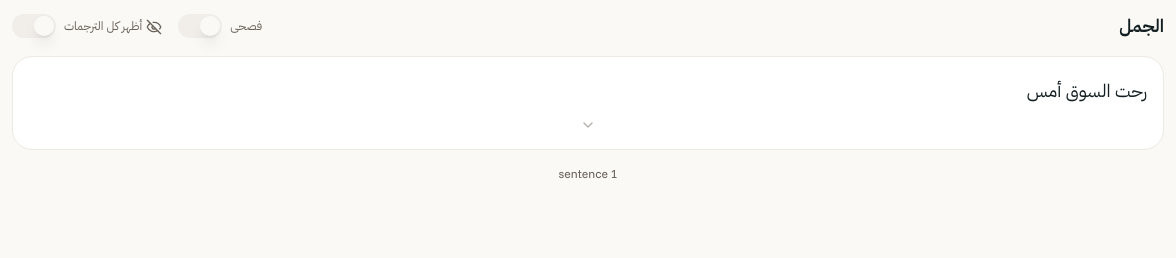
Test: the Fusha line › converts lines that predate the Fusha pass
Click the switch named "أظهر السطر بالفصحى". click: (200, 26)
box: [178,14,222,38]
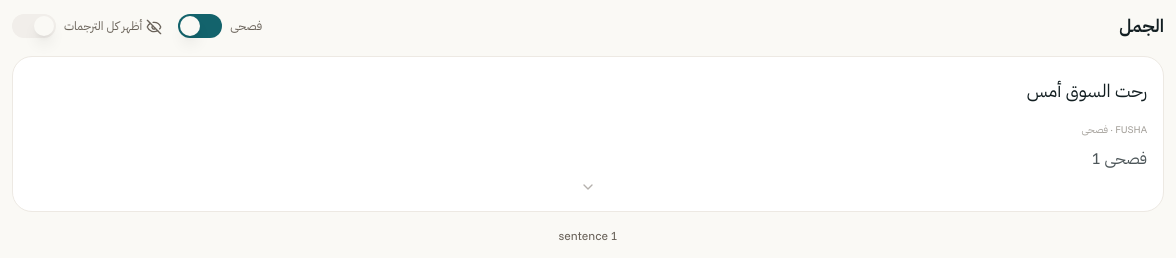
Result: the text "فصحى 1" is shown at [1092,148,1147,168]
